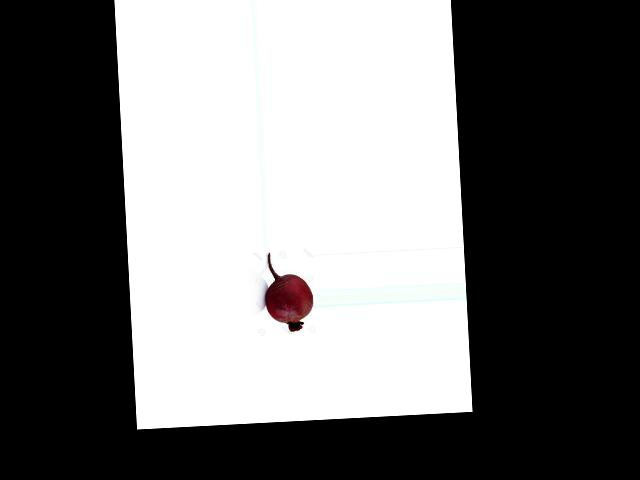beet: (262, 250, 314, 332)
